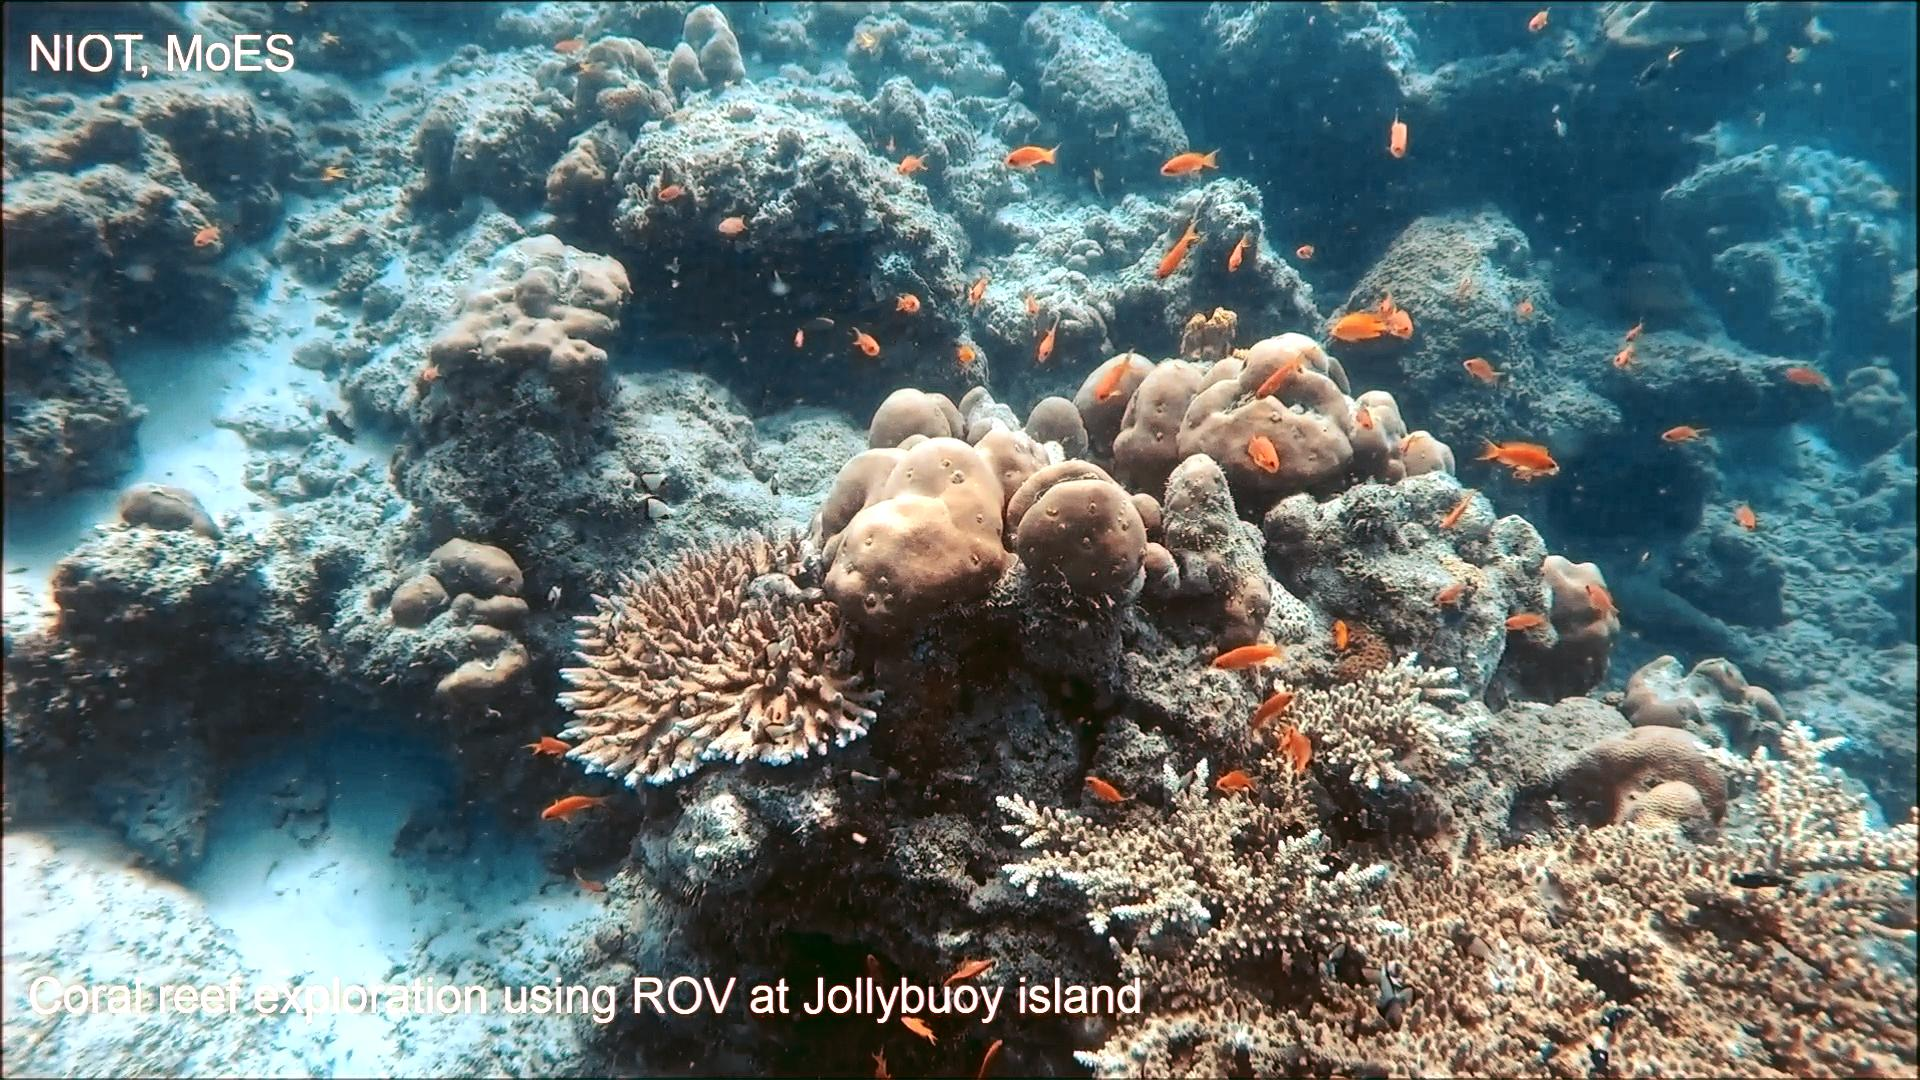Porites-Porites pukoensis: (802, 378, 1151, 647), (1054, 327, 1462, 516)
